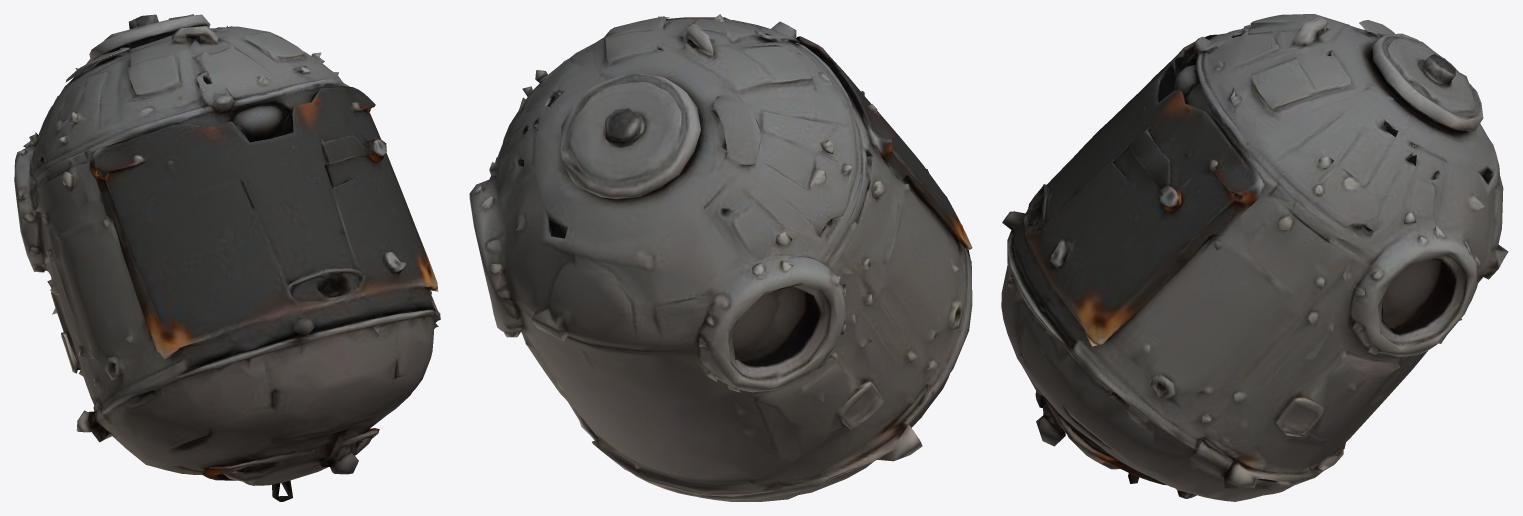
Rendered from capsula-exo.glb.
3 views of the same model, side by side, from view 1: azimuth 30°, elevation 25°; view 2: azimuth 150°, elevation 25°; view 3: azimuth 270°, elevation 25° (orthographic). The views are drawn at different scales.
Parts seen in each view (by area): view 1: tripo_node_f0692219-b025-4b2b-81a3-5d2419214ea7; view 2: tripo_node_f0692219-b025-4b2b-81a3-5d2419214ea7; view 3: tripo_node_f0692219-b025-4b2b-81a3-5d2419214ea7.
Part boxes in pixels (x1,y1,x2,y2): tripo_node_f0692219-b025-4b2b-81a3-5d2419214ea7: [14, 14, 440, 501]; tripo_node_f0692219-b025-4b2b-81a3-5d2419214ea7: [469, 14, 972, 501]; tripo_node_f0692219-b025-4b2b-81a3-5d2419214ea7: [1001, 14, 1508, 501].
Size of the model in its own units: 0.8011 by 0.9996 by 1.
1 material, 1 textured.
